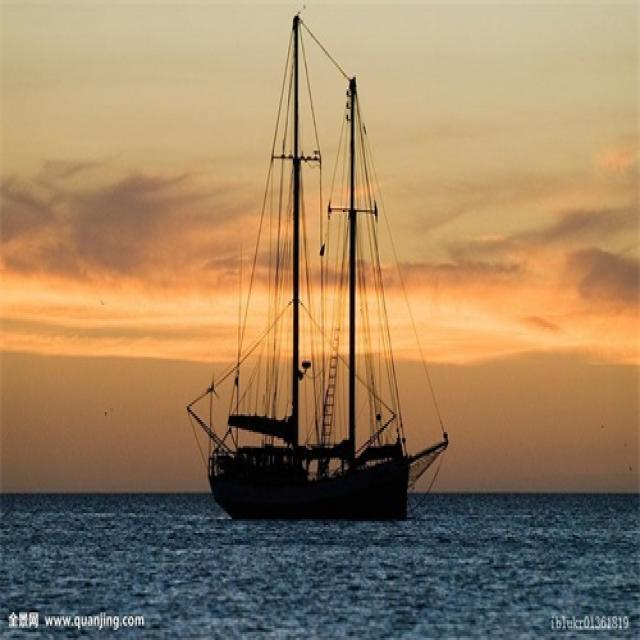Ship: (180, 23, 441, 530)
